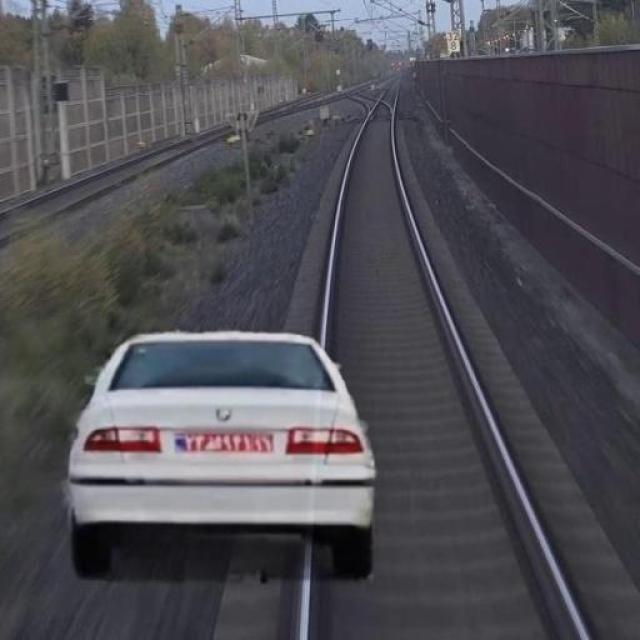vehicle: (65, 325, 382, 584)
